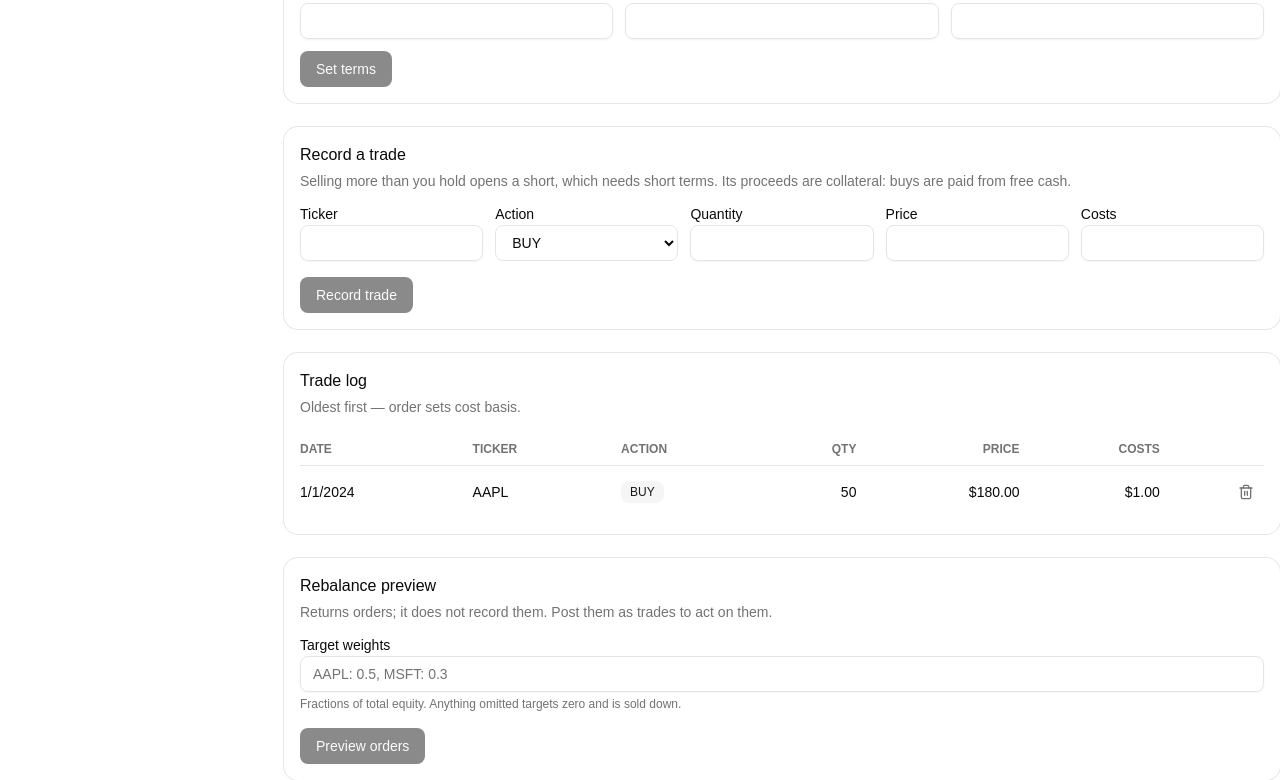
Test: PortfoliosPage — rebalancing › reports tickers it could not price
This screenshot has width=1280, height=780.
(page scrolled)
In the field labelled "Target weights": (782, 674) [300,656,1264,692], type "NOSUCH: 1.0"
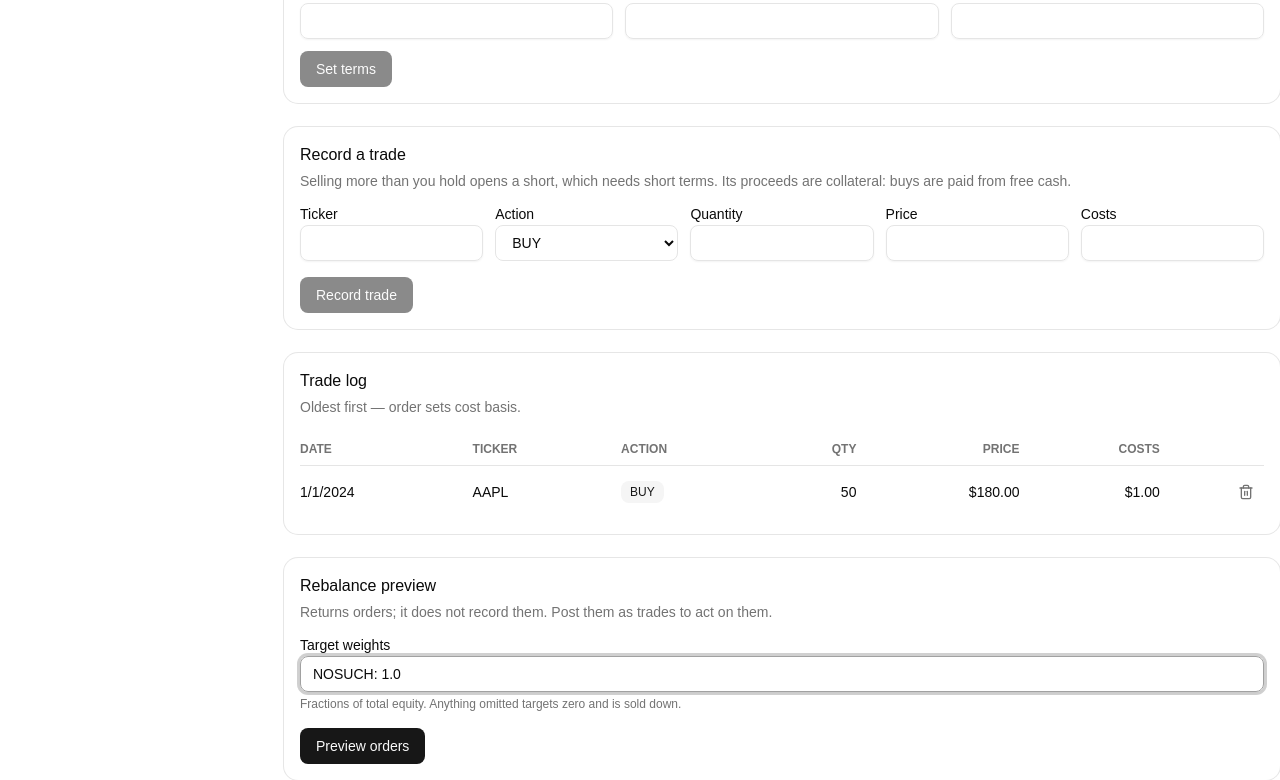
Click the button "Preview orders": (363, 746) [300,728,425,764]
(page scrolled)
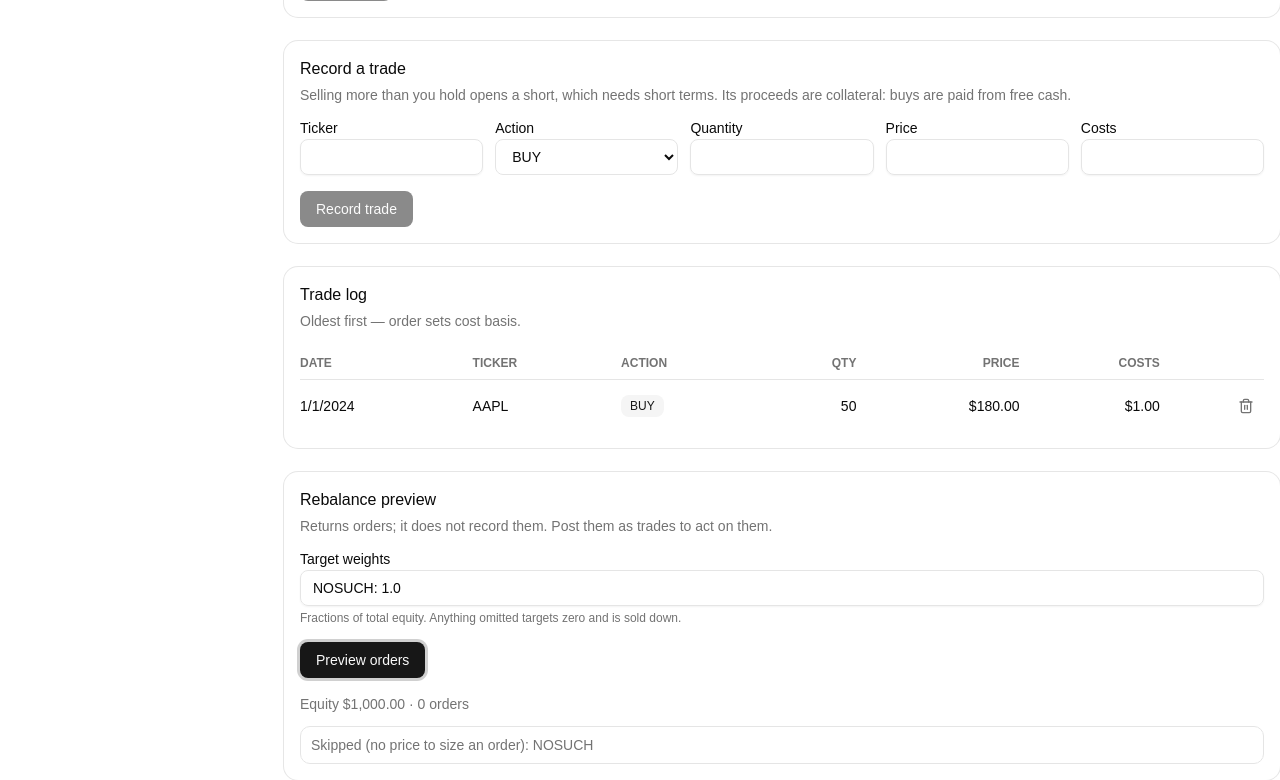
Expected: the text "Skipped (no price to size an order): NOSUCH" is shown, [311,737,594,753]
